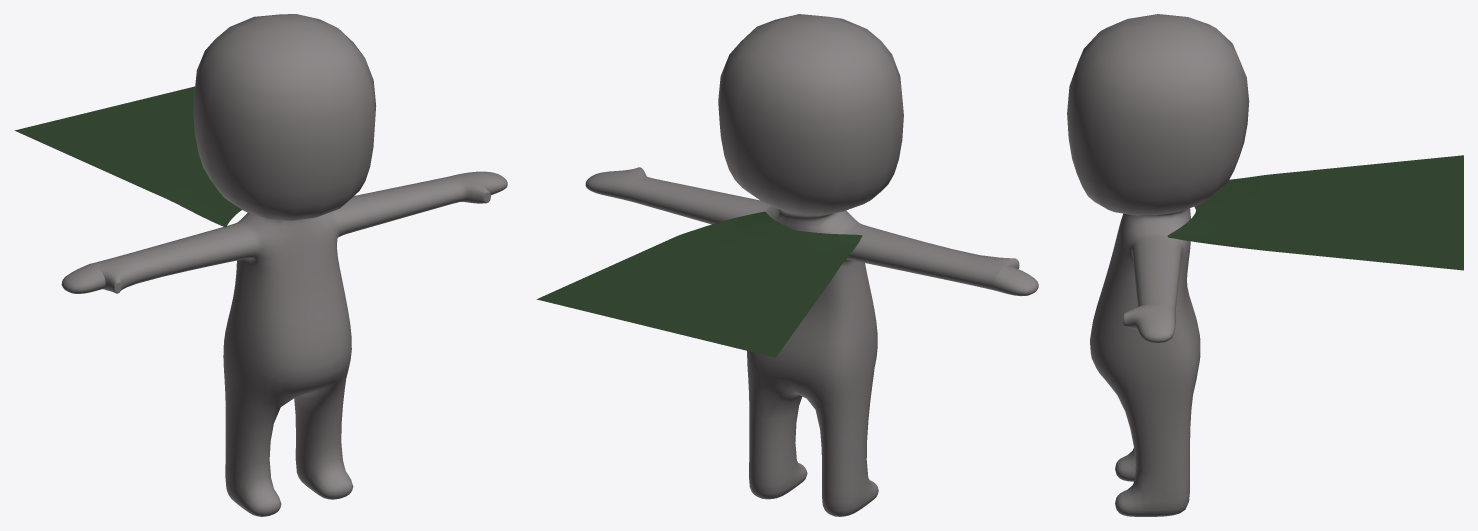
The model's file is Karakter.fbx.
3 views of the same model, side by side, from view 1: azimuth 30°, elevation 25°; view 2: azimuth 150°, elevation 25°; view 3: azimuth 270°, elevation 25° (orthographic).
Parts seen in each view (by area): view 1: Cube, Cape; view 2: Cube, Cape; view 3: Cube, Cape.
Part boxes in pixels (left/top/right/bottom): Cube: left=61, top=14, right=507, bottom=516; Cape: left=14, top=86, right=241, bottom=227; Cube: left=585, top=14, right=1038, bottom=516; Cape: left=536, top=211, right=862, bottom=357; Cube: left=1067, top=14, right=1249, bottom=516; Cape: left=1167, top=155, right=1463, bottom=270.
Bounding box in the file's own units: 691 × 704 × 537.
